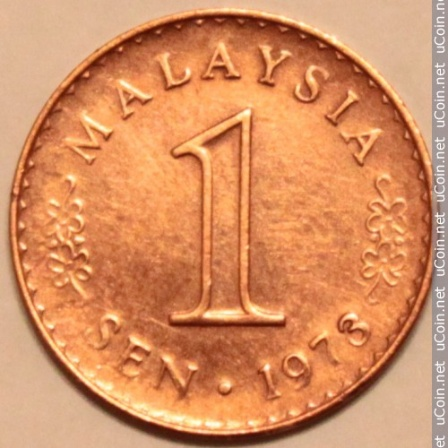1c: (7, 8, 443, 439)
